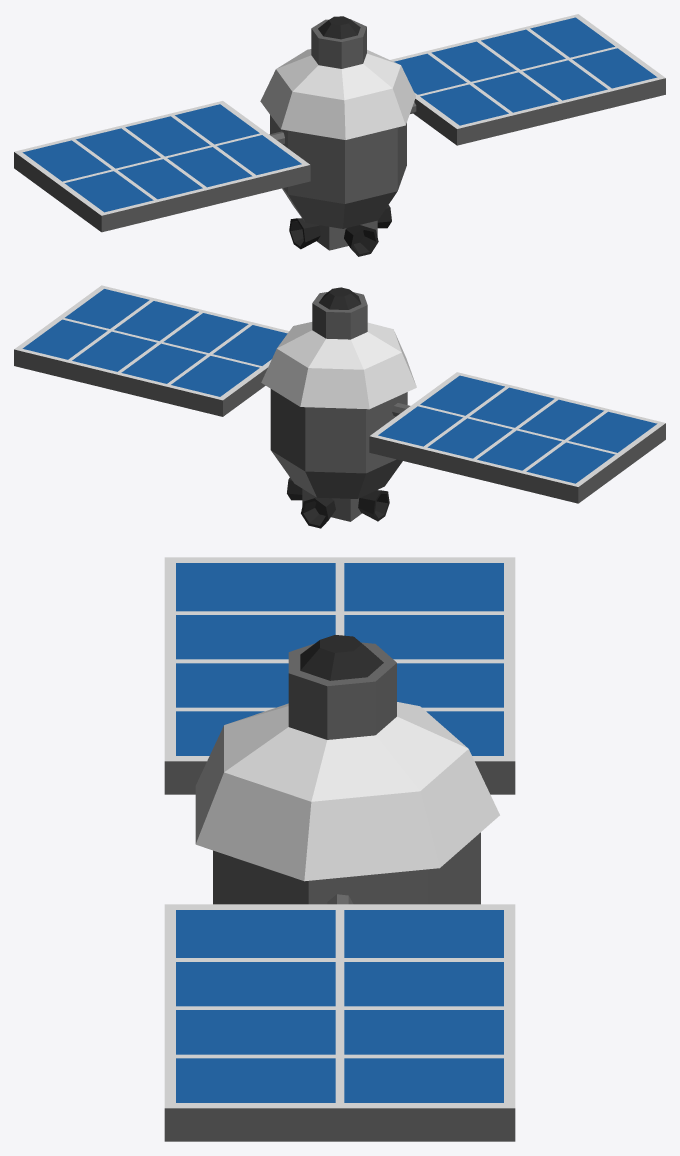
File: Satellite.fbx
3 renders of one model, top to bottom at view 1: azimuth 30°, elevation 25°; view 2: azimuth 150°, elevation 25°; view 3: azimuth 270°, elevation 25°, orthographic. The views are drawn at different scales.
Visible parts, largest first — view 1: Satellite; view 2: Satellite; view 3: Satellite.
Boxes of the visible parts, x1=… form: Satellite: x1=14, y1=14, x2=665, y2=256; Satellite: x1=14, y1=285, x2=665, y2=528; Satellite: x1=164, y1=557, x2=515, y2=1141.
Size of the model in its own units: 540 by 198 by 145.
